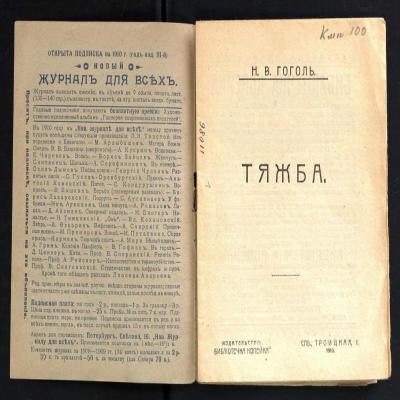rare_books: (0, 9, 398, 400)
